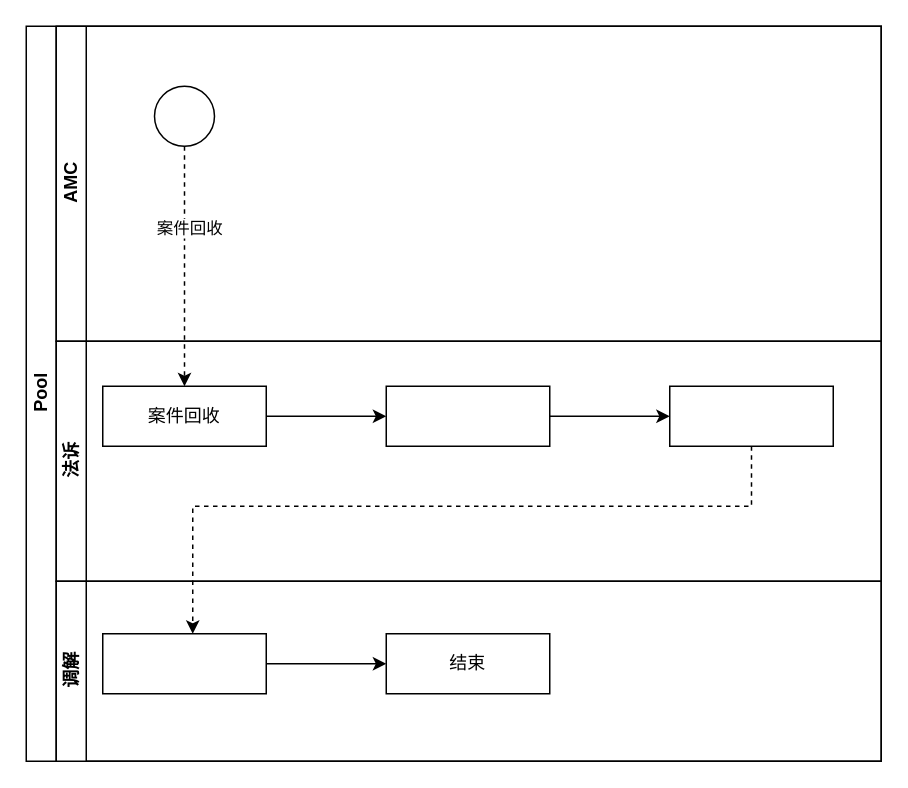
Some shapes in this 908 by 788 pixel diagram are drawn without their labels. Each missing label, with the centre of its shape:
"修改案件回收状态" goes at (x=467, y=415).
"判断案件是否结清并通知调解" goes at (x=750, y=415).
"调解将案件变成结案或失败结案" goes at (x=183, y=663).
